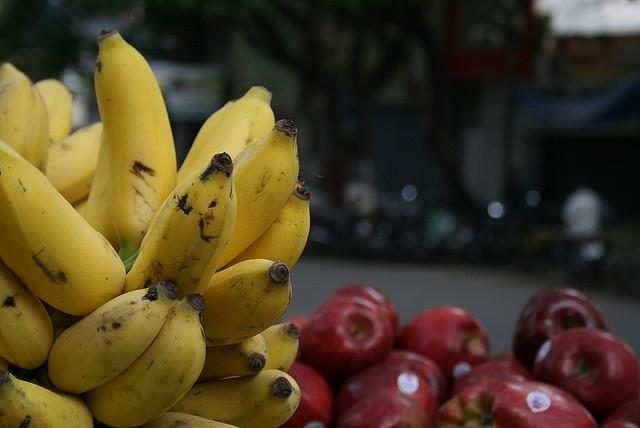apple: (533, 327, 639, 422), (298, 294, 394, 390), (511, 288, 609, 374), (395, 305, 490, 383), (464, 379, 598, 428), (332, 366, 437, 419), (371, 348, 448, 410), (278, 360, 336, 428), (333, 286, 401, 342), (336, 389, 431, 428), (451, 360, 532, 400), (435, 386, 484, 428), (599, 399, 640, 428), (280, 316, 309, 330), (493, 348, 516, 358)
banana: (0, 137, 125, 316), (94, 29, 178, 274), (121, 152, 237, 301), (80, 293, 207, 428), (48, 281, 180, 395), (214, 119, 300, 271), (175, 85, 275, 186), (215, 186, 311, 274), (200, 258, 292, 346), (165, 369, 302, 428), (0, 258, 54, 370), (0, 369, 93, 428), (1, 62, 49, 175), (82, 125, 120, 254), (45, 122, 102, 206), (194, 332, 268, 386), (34, 78, 72, 149), (260, 322, 300, 373), (139, 412, 240, 428)
